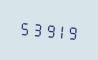five: (18, 17, 29, 38)
nine: (42, 19, 53, 40), (66, 21, 77, 42)
one: (54, 20, 65, 41)
three: (30, 18, 41, 39)
